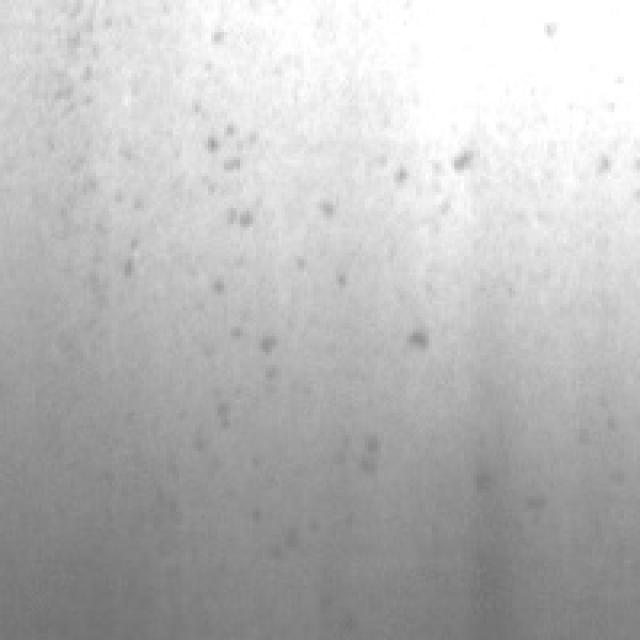pitted_surface: (64, 16, 301, 467)
